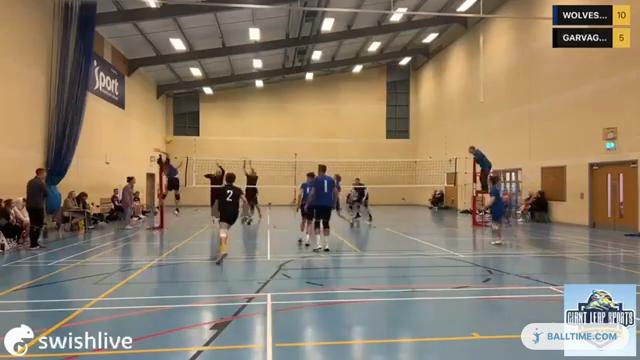attacco: (148, 145, 186, 217)
muro: (239, 157, 265, 223)
